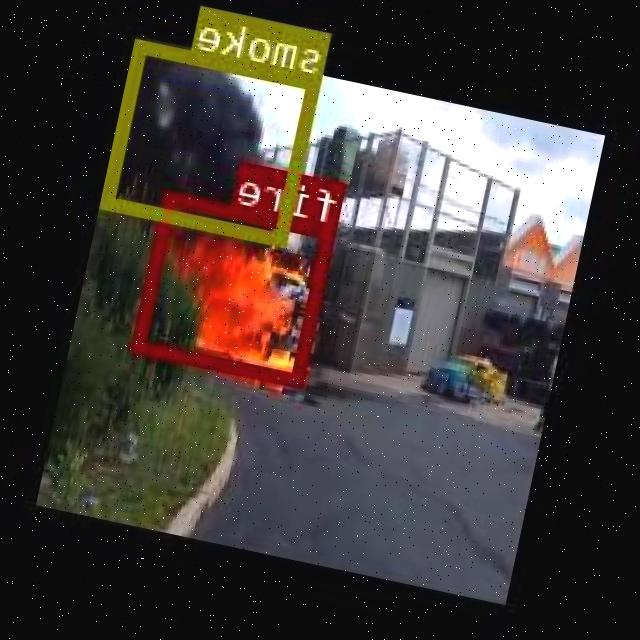fire: (134, 189, 338, 387)
smoke: (103, 38, 323, 244)
